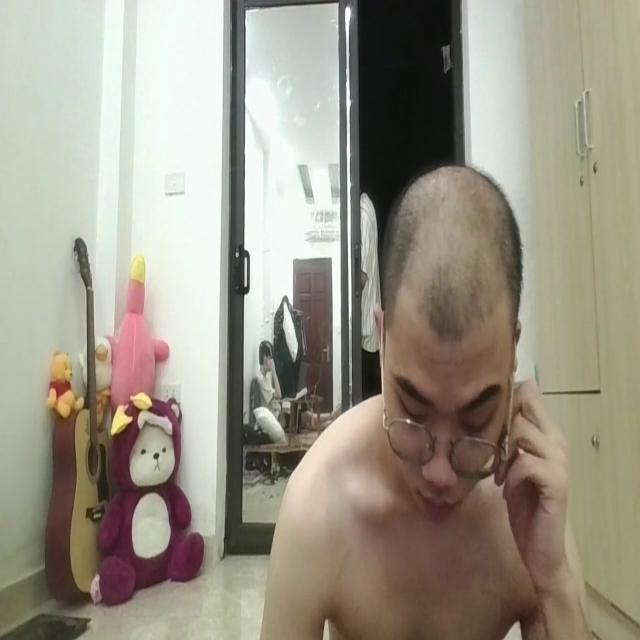extra_person: (344, 171, 394, 379), (254, 309, 307, 481)
student: (250, 166, 588, 640)
